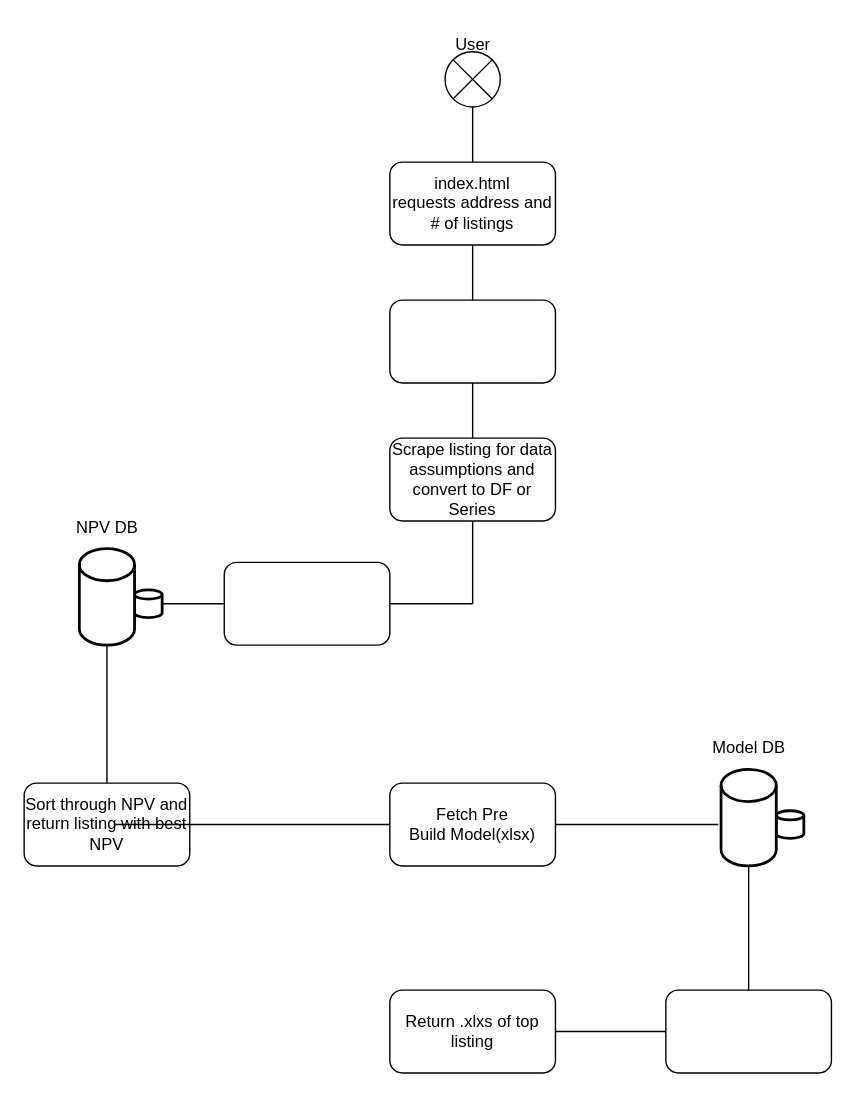
Image size: 856x1097. Some labels were removed from this diagram. Each missing label, with the box of its shape:
address returns # of listings closest to address: (388, 299, 555, 383)
Manipulate the data using pandas to return NPV: (223, 561, 390, 645)
Re Run the listing through excel model to display all relevant information: (664, 989, 831, 1073)
